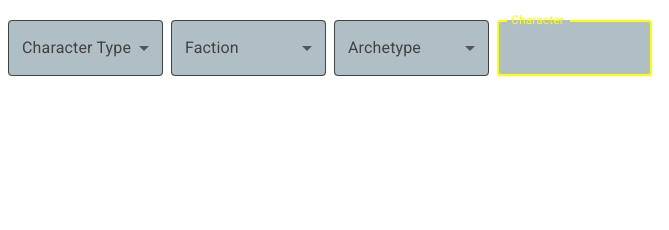
Test: CharacterFilters Component › faction filter › should display all faction options
This screenshot has width=669, height=230.
Press the mouse on the dropdown named "Faction" next to "Faction" at (248, 48), box [171,20,326,76]
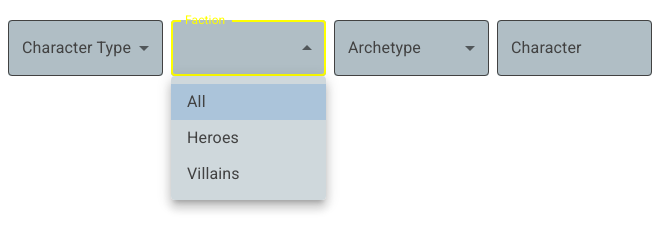
Expected: the option "All" is shown, [171,84,326,120]
Expected: the option "Heroes" is shown, [187,128,239,147]
Expected: the option "Villains" is shown, [187,164,240,183]
